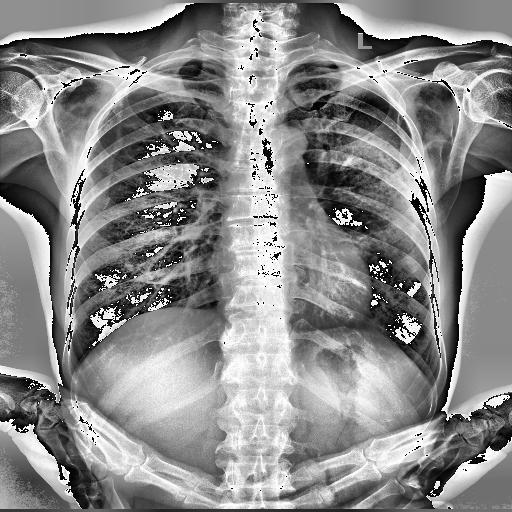11- Pleural thickening: (302, 56, 354, 67)
13- Pulmonary fibrosis: (118, 110, 176, 154), (118, 116, 172, 146)
4- Consolidation: (318, 108, 428, 268)
6- Infiltration: (327, 126, 429, 258)
7- Lung Opacity: (318, 108, 428, 268), (327, 126, 429, 258), (343, 131, 422, 260)
